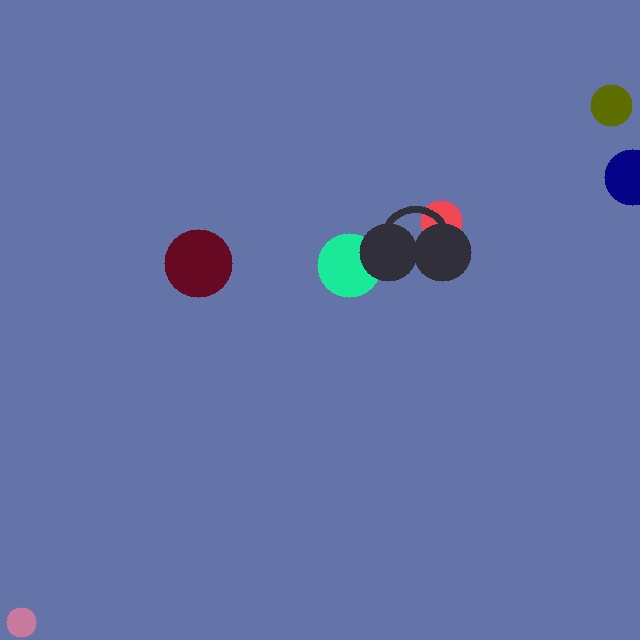over_ear: (355, 202, 475, 285)
